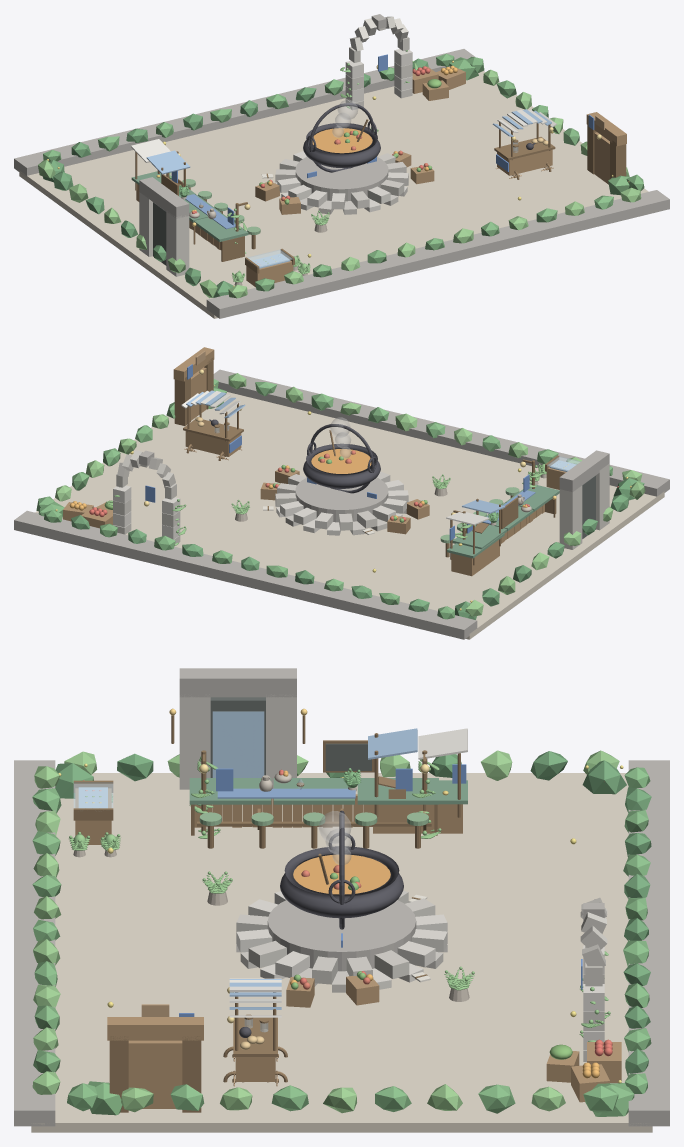
Rendered from restaurant_v3.glb.
3 renders of one model, top to bottom at view 1: azimuth 30°, elevation 25°; view 2: azimuth 150°, elevation 25°; view 3: azimuth 270°, elevation 25°, orthographic. The views are drawn at different scales.
Visible parts, largest first — view 1: ground, border_-1, border_1, hearth_core, cauldron_body, maze_stone_pillar_-1, maze_stone_lintel, stew, cart_body, maze_stone_pillar_1, lounge_door, displaycase_body (+11 smaller); view 2: ground, border_1, border_-1, hearth_core, cauldron_body, maze_stone_pillar_1, stew, maze_stone_lintel, frontcounter_body, cart_body, maze_stone_pillar_-1, lounge_post_1 (+7 smaller); view 3: ground, border_1, border_-1, hearth_core, cauldron_body, maze_stone_lintel, maze_door_glow, lounge_door, maze_stone_pillar_-1, stew, maze_stone_pillar_1, lounge_lintel (+37 smaller).
Boxes of the visible parts, x1,y1,x2,y2 form: ground: [19, 71, 648, 318]; border_-1: [206, 190, 669, 318]; border_1: [14, 49, 475, 177]; hearth_core: [295, 156, 388, 201]; cauldron_body: [303, 123, 380, 167]; maze_stone_pillar_-1: [166, 210, 189, 276]; maze_stone_lintel: [139, 177, 189, 218]; stew: [312, 128, 372, 153]; cart_body: [497, 149, 552, 175]; maze_stone_pillar_1: [139, 192, 152, 256]; lounge_door: [594, 132, 609, 184]; displaycase_body: [246, 260, 293, 287]; ground: [35, 392, 664, 639]; border_1: [14, 510, 477, 639]; border_-1: [213, 369, 669, 496]; hearth_core: [295, 477, 388, 522]; cauldron_body: [303, 443, 380, 488]; maze_stone_pillar_1: [559, 485, 582, 549]; stew: [311, 449, 371, 473]; maze_stone_lintel: [559, 450, 609, 492]; frontcounter_body: [451, 540, 499, 576]; cart_body: [185, 431, 241, 456]; maze_stone_pillar_-1: [596, 463, 609, 530]; lounge_post_1: [174, 377, 190, 425]; ground: [31, 773, 652, 1132]; border_1: [628, 760, 669, 1126]; border_-1: [14, 760, 55, 1126]; hearth_core: [267, 900, 416, 971]; cauldron_body: [280, 846, 403, 918]; maze_stone_lintel: [179, 668, 296, 697]; maze_door_glow: [212, 711, 264, 777]; lounge_door: [128, 1040, 182, 1108]; maze_stone_pillar_-1: [179, 694, 210, 789]; stew: [293, 854, 390, 894]; maze_stone_pillar_1: [266, 694, 296, 788]; lounge_lintel: [107, 1017, 203, 1040].
Bounding box in the file's own units: 24 × 4.88 × 19.
